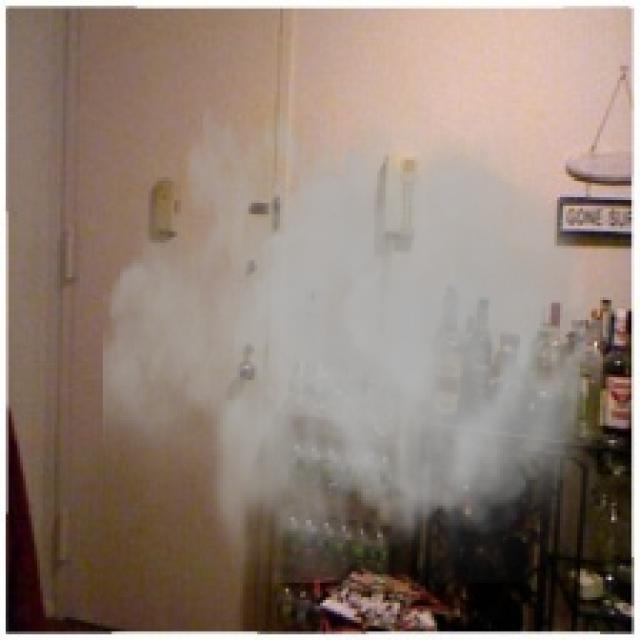smoke: (103, 54, 617, 583)
